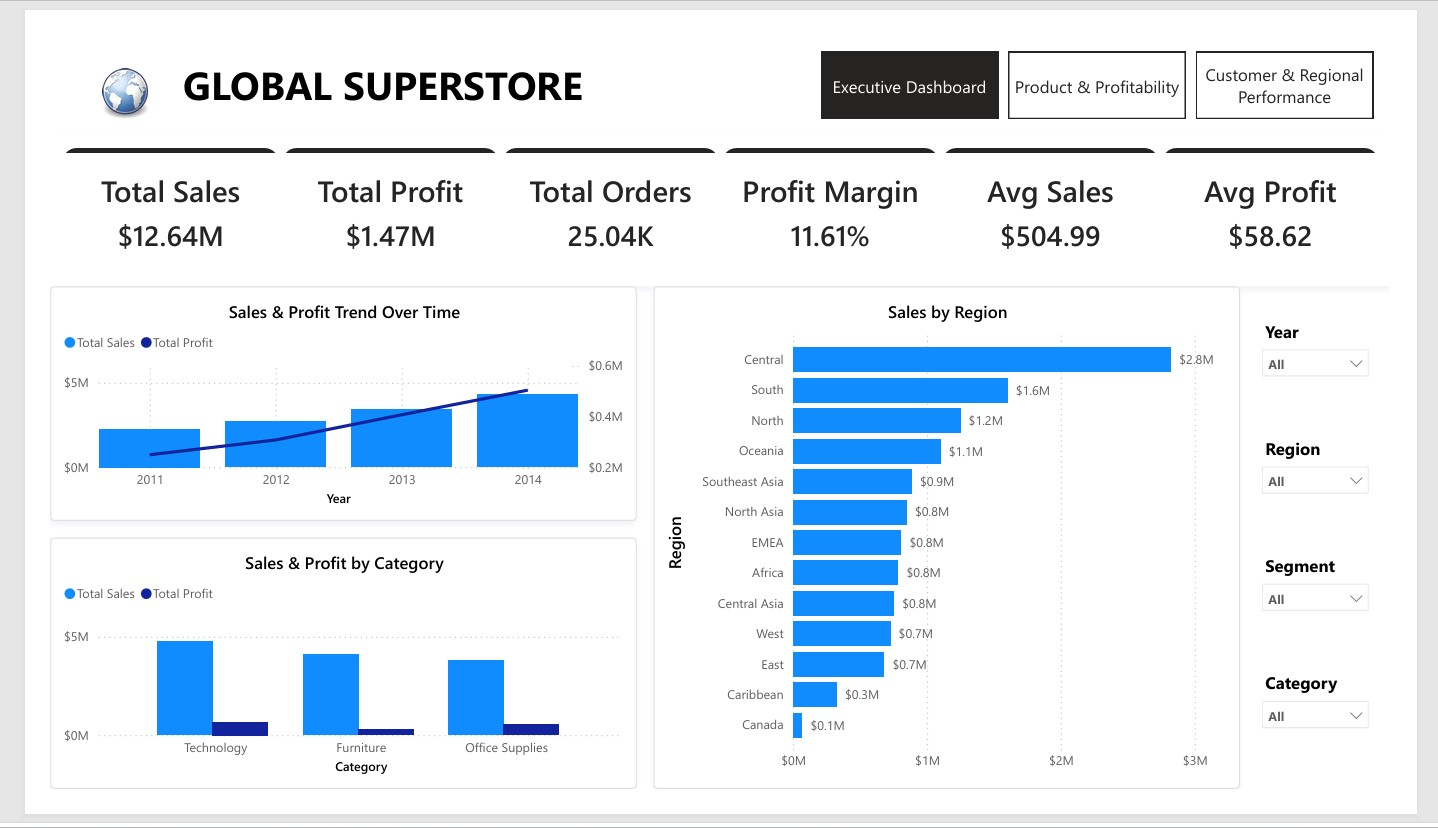

The dashboard page shown, as its layout file describes it:
{"tool":"powerbi","page":{"name":"Executive Dashboard","canvas":[1280,720],"ordinal":0},"visuals":[{"type":"cardVisual","fields":{"Data":["Global Superstore.Total Sales","Global Superstore.Total Profit","Global Superstore.Total Orders","Global Superstore.Profit Margin","Global Superstore.Average Sales per Order","Global Superstore.Average Profit per Order"]},"box":[0,96,1280,144],"z":0},{"type":"lineClusteredColumnComboChart","title":"Sales & Profit Trend Over Time","fields":{"Category":["Global_Superstore2.Order Date.Variation.Date Hierarchy.Year","Global_Superstore2.Order Date.Variation.Date Hierarchy.Month"],"Y2":["Global Superstore.Total Profit"],"Y":["Global Superstore.Total Sales"]},"box":[0,240,560,224],"z":1000},{"type":"textbox","box":[0,0,656,80],"z":2000},{"type":"clusteredColumnChart","title":" Sales & Profit by Category","fields":{"Category":["Global_Superstore2.Category"],"Y":["Global Superstore.Total Sales","Global Superstore.Total Profit"]},"box":[0,480,560,240],"z":3000},{"type":"clusteredBarChart","title":"Sales by Region","fields":{"Category":["Global_Superstore2.Region"],"Y":["Sum(Global_Superstore2.Sales)"]},"box":[576,240,560,480],"z":4000},{"type":"image","box":[32,32,80,48],"z":5000},{"type":"pageNavigator","box":[736,16,528,64],"z":6000},{"type":"slicer","fields":{"Values":["Global_Superstore2.Order Date.Variation.Date Hierarchy.Year"]},"box":[1152,272,112,64],"z":7000},{"type":"slicer","fields":{"Values":["Global_Superstore2.Region","Global_Superstore2.Country"]},"box":[1152,384,112,64],"z":8000},{"type":"slicer","fields":{"Values":["Global Superstore.Segment"]},"box":[1152,496,112,64],"z":9000},{"type":"slicer","fields":{"Values":["Global Superstore.Category"]},"box":[1152,608,112,64],"z":10000}]}

Visuals, with their boxes in screenshot pixels (x1, y1, x2, y2), scaled from the page's 1280x720 canvas onto the 1438x828 screenshot:
cardVisual - Global Superstore.Total Sales x Global Superstore.Total Profit: pyautogui.locateOnScreen(0, 110, 1437, 276)
"Sales & Profit Trend Over Time" lineClusteredColumnComboChart: pyautogui.locateOnScreen(0, 276, 629, 534)
textbox: pyautogui.locateOnScreen(0, 0, 737, 92)
" Sales & Profit by Category" clusteredColumnChart: pyautogui.locateOnScreen(0, 552, 629, 827)
"Sales by Region" clusteredBarChart: pyautogui.locateOnScreen(647, 276, 1276, 827)
image: pyautogui.locateOnScreen(36, 37, 126, 92)
pageNavigator: pyautogui.locateOnScreen(827, 18, 1420, 92)
slicer - Global_Superstore2.Order Date.Variation.Date Hierarchy.Year: pyautogui.locateOnScreen(1294, 313, 1420, 386)
slicer - Global_Superstore2.Region x Global_Superstore2.Country: pyautogui.locateOnScreen(1294, 442, 1420, 515)
slicer - Global Superstore.Segment: pyautogui.locateOnScreen(1294, 570, 1420, 644)
slicer - Global Superstore.Category: pyautogui.locateOnScreen(1294, 699, 1420, 773)
